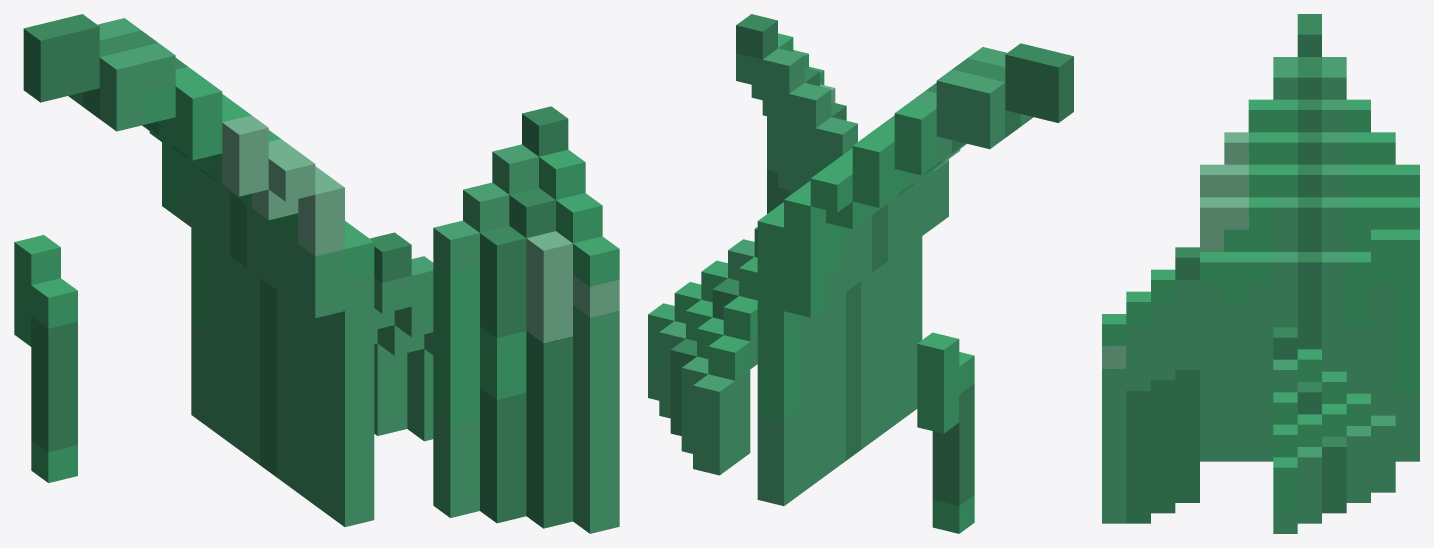
File: leaves_tall.fbx
3 renders of one model, left to right at view 1: azimuth 30°, elevation 25°; view 2: azimuth 150°, elevation 25°; view 3: azimuth 270°, elevation 25°, orthographic. The views are drawn at different scales.
Visible parts, largest first — view 1: leaves_tall; view 2: leaves_tall; view 3: leaves_tall.
Boxes of the visible parts, bbox=[...] form: leaves_tall: bbox=[14, 14, 619, 533]; leaves_tall: bbox=[648, 14, 1073, 533]; leaves_tall: bbox=[1102, 14, 1419, 533].
Bounding box in the file's own units: 16 × 16 × 13.
Materials: 1 (1 with a texture image).
